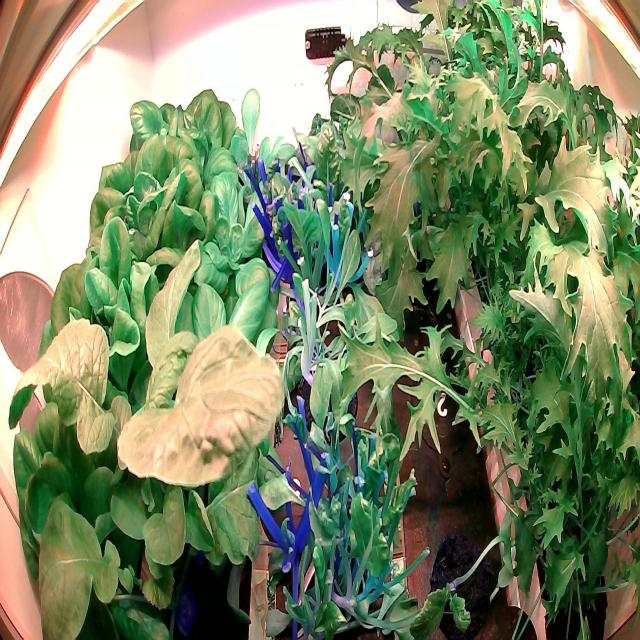Ready: (7, 336, 158, 640), (92, 90, 234, 277), (41, 192, 150, 405)
empty_pod: (408, 350, 466, 454)
young: (196, 176, 270, 286), (217, 84, 295, 188)
